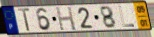2: (77, 7, 95, 30)
6: (36, 7, 52, 32)
8: (100, 5, 117, 29)
H: (55, 6, 77, 32)
L: (117, 5, 136, 28)
T: (17, 8, 32, 33)
